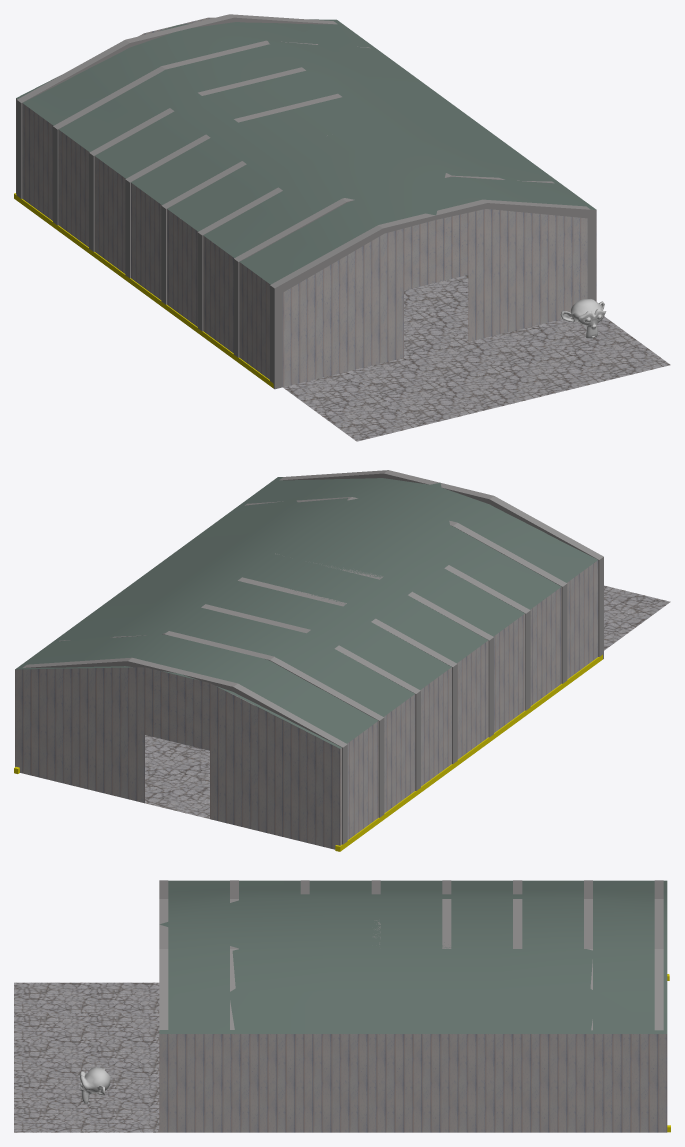
3 views of the same model, one above another, from view 1: azimuth 30°, elevation 25°; view 2: azimuth 150°, elevation 25°; view 3: azimuth 270°, elevation 25° (orthographic). The views are drawn at different scales.
Visible parts, largest first — view 1: Plane.035, Cube.002, Wall.020, Wall.022, Wall.019, Wall.023, Wall.021, Wall.011, Wall.013, Wall.012, Wall.008, Wall.007 (+16 smaller); view 2: Plane.035, Cube.002, Wall.015, Wall.017, Wall.018, Wall.014, Wall.016, Wall.012, Wall.013, Wall.009, Wall.007, Wall.010 (+6 smaller); view 3: Plane.035, Wall.001, Wall.003, Wall.005, Wall, Wall.002, Wall.004, Wall.006, Cube.002, Plane.043, Plane.039, Plane.045 (+8 smaller).
Part boxes in pixels (x1=…): Plane.035: x1=16, y1=19, x2=596, y2=284; Cube.002: x1=16, y1=14, x2=595, y2=389; Wall.020: x1=339, y1=228, x2=403, y2=373; Wall.022: x1=468, y1=209, x2=532, y2=341; Wall.019: x1=282, y1=260, x2=339, y2=387; Wall.023: x1=532, y1=209, x2=596, y2=326; Wall.021: x1=404, y1=213, x2=468, y2=290; Wall.011: x1=94, y1=156, x2=125, y2=273; Wall.013: x1=16, y1=98, x2=52, y2=220; Wall.012: x1=53, y1=125, x2=89, y2=247; Wall.008: x1=203, y1=235, x2=233, y2=352; Wall.007: x1=239, y1=262, x2=270, y2=379; Plane.035: x1=15, y1=477, x2=597, y2=748; Cube.002: x1=23, y1=470, x2=603, y2=844; Wall.015: x1=80, y1=667, x2=144, y2=803; Wall.017: x1=210, y1=683, x2=274, y2=834; Wall.018: x1=275, y1=716, x2=340, y2=849; Wall.014: x1=15, y1=668, x2=79, y2=787; Wall.016: x1=145, y1=667, x2=209, y2=750; Wall.012: x1=377, y1=694, x2=415, y2=817; Wall.013: x1=340, y1=722, x2=377, y2=845; Wall.009: x1=493, y1=613, x2=525, y2=732; Wall.007: x1=567, y1=560, x2=598, y2=679; Wall.010: x1=457, y1=640, x2=488, y2=759; Plane.035: x1=159, y1=880, x2=667, y2=1033; Wall.001: x1=449, y1=1034, x2=522, y2=1132; Wall.003: x1=594, y1=1034, x2=667, y2=1132; Wall.005: x1=231, y1=1034, x2=304, y2=1132; Wall: x1=377, y1=1034, x2=449, y2=1132; Wall.002: x1=522, y1=1034, x2=594, y2=1132; Wall.004: x1=304, y1=1034, x2=376, y2=1132; Wall.006: x1=159, y1=1034, x2=231, y2=1132; Cube.002: x1=159, y1=880, x2=663, y2=1030; Plane.043: x1=86, y1=982, x2=159, y2=1013; Plane.039: x1=14, y1=1040, x2=86, y2=1071; Plane.045: x1=14, y1=982, x2=86, y2=1013.
Size of the model in its own units: 20.06 by 9 by 36.2.
Materials: 9 (2 with a texture image).
